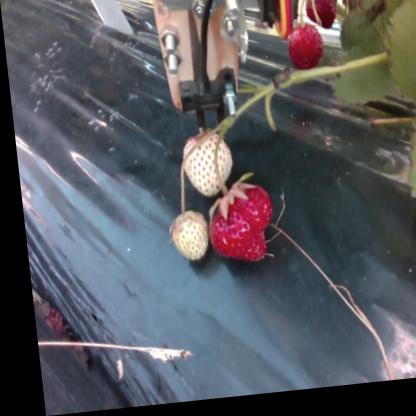ripe: (203, 195, 267, 266), (283, 30, 327, 75), (305, 0, 342, 34)
unripe: (175, 135, 230, 200), (166, 217, 201, 261)
